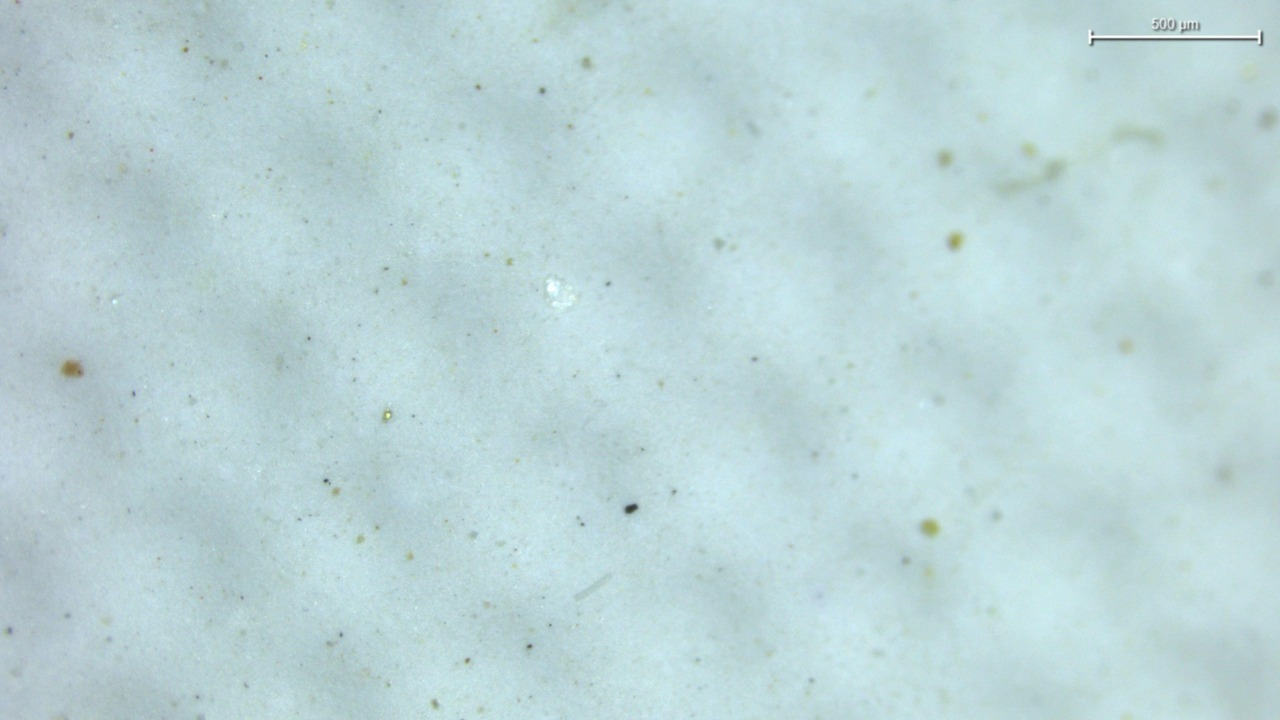microplastic_fragment: (545, 277, 578, 310), (381, 408, 392, 422)
